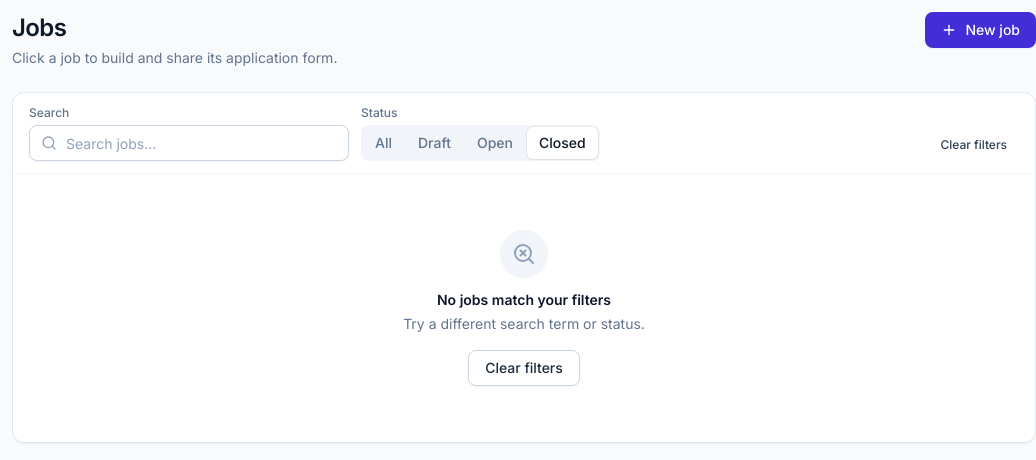
Test: JobListPage › distinguishes 'no jobs yet' from 'no match for filters'
The width and height of the screenshot is (1036, 460).
Expected: the text "No jobs match your filters" is shown, [437,291,611,308]
Click the 1st button "Clear filters": (974, 145) [928,129,1019,161]
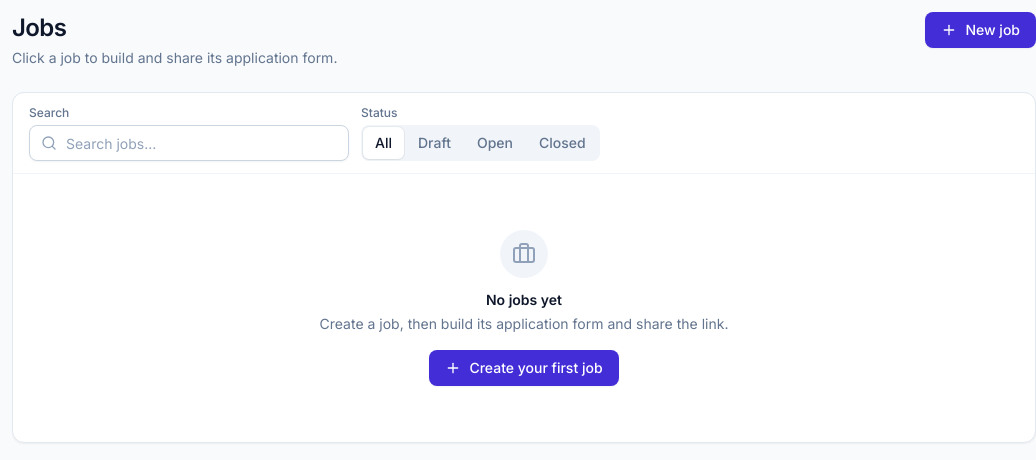
Result: the text "No jobs yet" is shown at [486,291,562,308]
Result: the link "Create your first job" is shown at [430,350,619,386]
